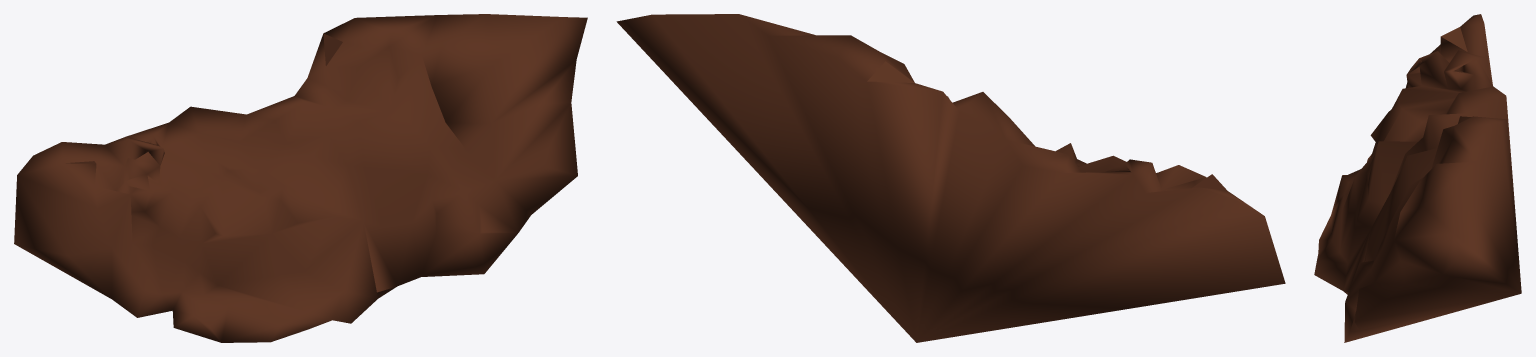
Rendered from mars-cliff-lod1.glb.
The picture shows the model from 3 angles, left to right: view 1: azimuth 30°, elevation 25°; view 2: azimuth 150°, elevation 25°; view 3: azimuth 270°, elevation 25°; orthographic projection. The views are drawn at different scales.
Parts seen in each view (by area): view 1: mars-cliff.001; view 2: mars-cliff.001; view 3: mars-cliff.001.
Part boxes in pixels (box(x1,y1,x2,y2)): mars-cliff.001: box(14, 14, 587, 342); mars-cliff.001: box(616, 14, 1285, 342); mars-cliff.001: box(1314, 14, 1521, 342).
Size of the model in its own units: 32.44 by 11.75 by 10.62.
